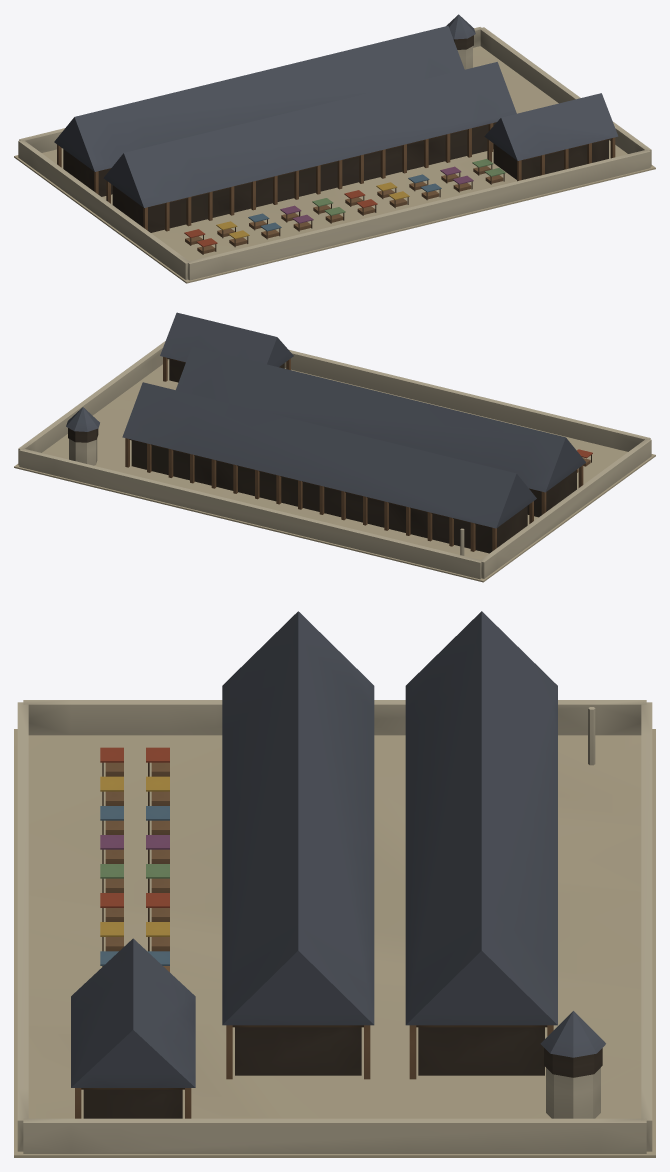
Rendered from les-halles.glb.
3 views of the same model, one above another, from view 1: azimuth 30°, elevation 25°; view 2: azimuth 150°, elevation 25°; view 3: azimuth 270°, elevation 25° (orthographic). The views are drawn at different scales.
Visible parts, largest first — view 1: p1_halls, p0_walls, p2_stalls; view 2: p1_halls, p0_walls, p2_stalls; view 3: p0_walls, p1_halls, p2_stalls.
Boxes of the visible parts, bbox=[...] form: p1_halls: bbox=[54, 26, 618, 232]; p0_walls: bbox=[14, 27, 655, 283]; p2_stalls: bbox=[184, 14, 505, 254]; p1_halls: bbox=[122, 312, 585, 553]; p0_walls: bbox=[14, 341, 655, 582]; p2_stalls: bbox=[66, 407, 592, 555]; p0_walls: bbox=[14, 700, 655, 1157]; p1_halls: bbox=[71, 611, 557, 1118]; p2_stalls: bbox=[100, 707, 605, 1118].
Size of the model in its own units: 110 by 16 by 70.
